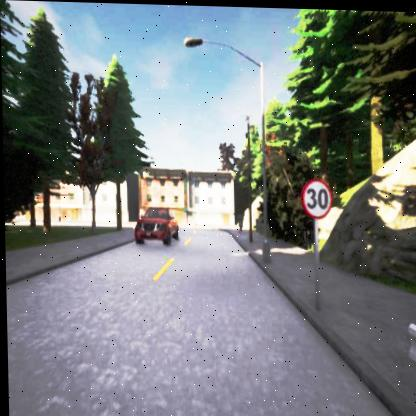vehicle: (133, 207, 177, 244)
